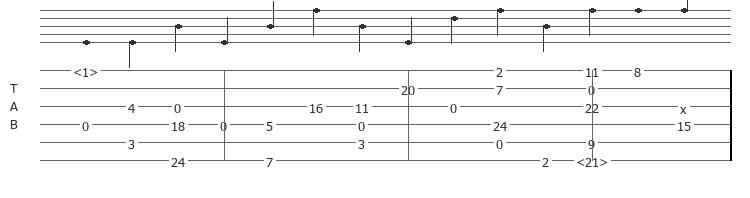0: (82, 118, 93, 131), (174, 100, 185, 113), (220, 118, 231, 131), (358, 118, 369, 131), (450, 100, 461, 113), (496, 136, 507, 149), (588, 82, 599, 95)
11: (355, 100, 373, 113), (585, 64, 603, 77)
15: (677, 118, 695, 131)
16: (309, 100, 327, 113)
18: (171, 118, 189, 131)
2: (496, 64, 507, 77), (542, 154, 553, 167)
20: (401, 82, 419, 95)
22: (585, 100, 603, 113)
24: (171, 154, 189, 167), (493, 118, 511, 131)
3: (128, 136, 139, 149), (358, 136, 369, 149)
4: (128, 100, 139, 113)
5: (266, 118, 277, 131)
7: (266, 154, 277, 167), (496, 82, 507, 95)
8: (634, 64, 645, 77)
9: (588, 136, 599, 149)
harmonic: (576, 154, 612, 167), (73, 64, 102, 77)
x: (680, 101, 691, 112)
